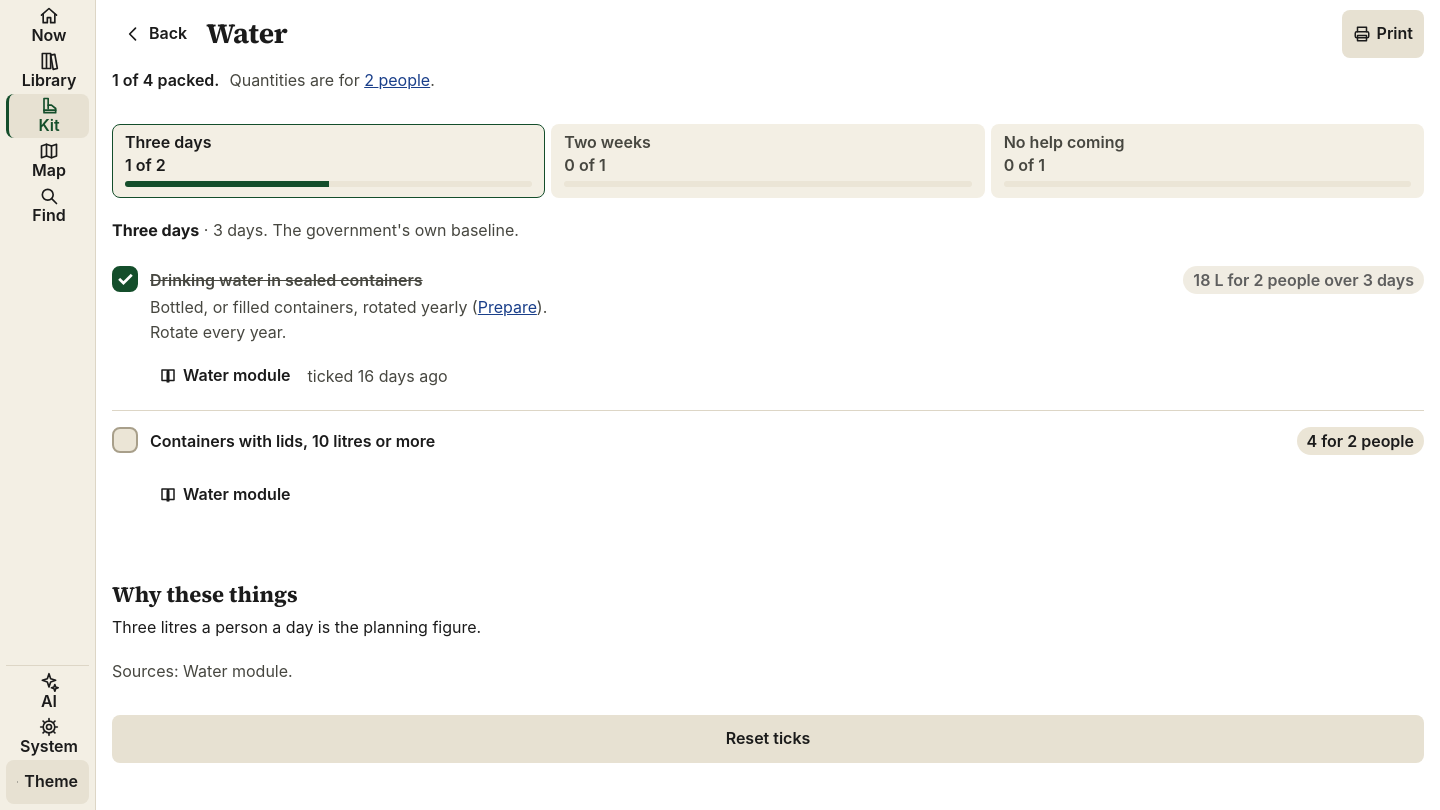
Scenario: Kit › resets the ticks behind a confirm
The width and height of the screenshot is (1440, 810).
Expected: the heading "Water" is shown, [206,14,287,52]
Click the button "Reset ticks". click: {"x": 768, "y": 739}
box: [112,715,1424,763]
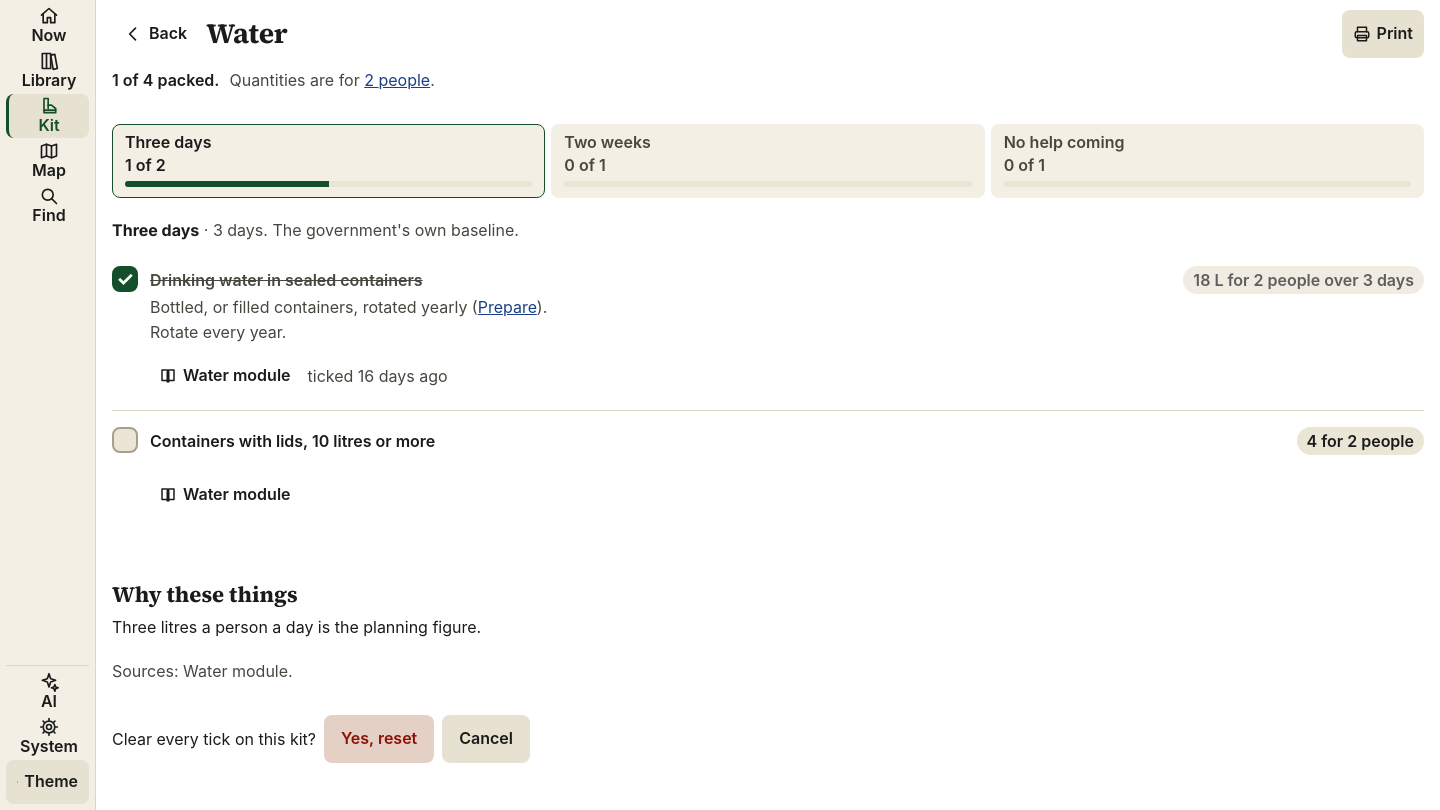
Click the button "Yes, reset". click: {"x": 379, "y": 739}
box: [324,715,434,763]
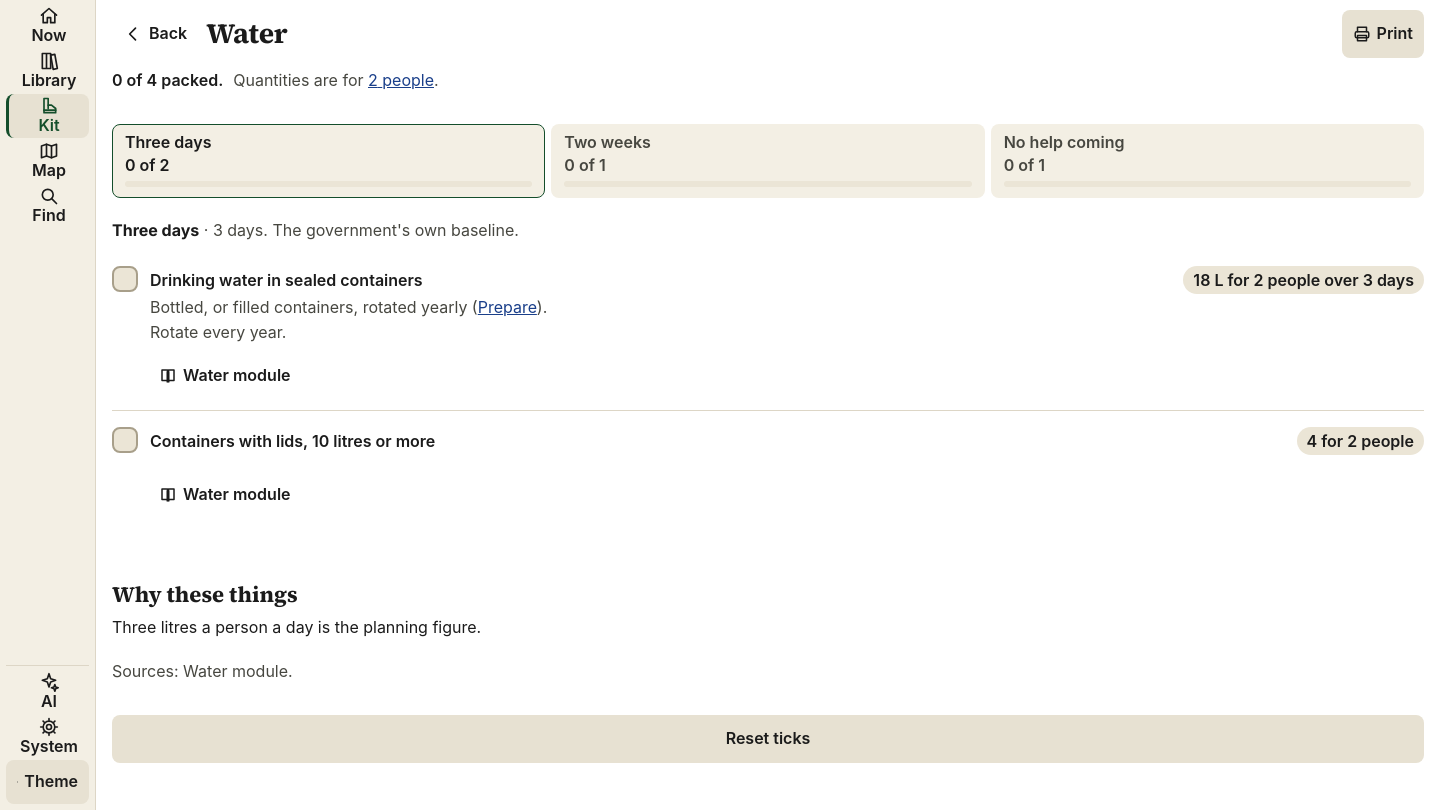
Now the checkbox labelled "Drinking water" is not checked, box [112,266,138,292]
